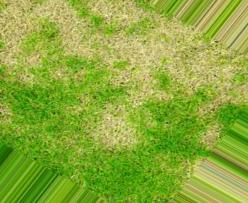patch: (95, 16, 162, 59), (19, 47, 52, 78), (109, 124, 135, 154), (62, 21, 91, 46), (172, 29, 207, 48), (8, 15, 32, 41), (211, 78, 238, 99), (128, 81, 155, 101), (189, 54, 215, 70), (170, 56, 184, 67)
